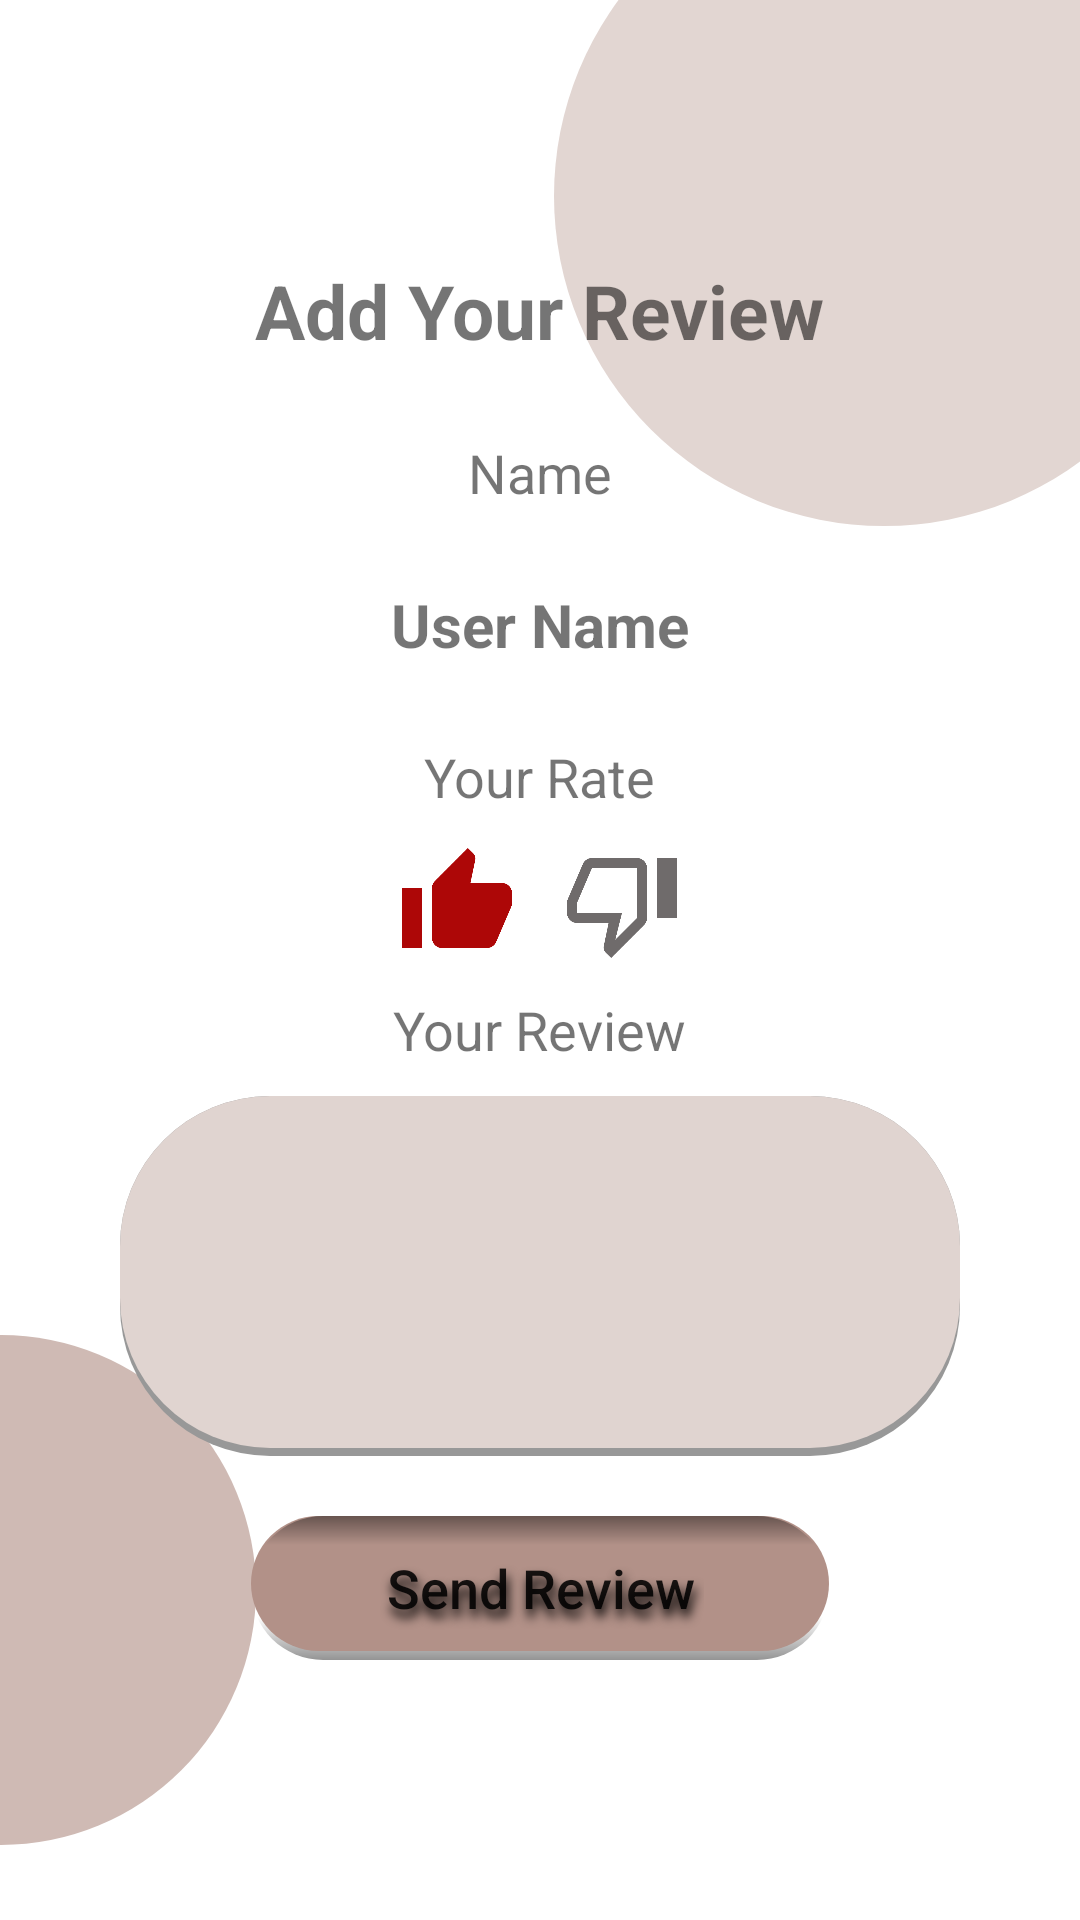

Icons on this 1080x1920 Android screen, each with the point to tap as (x,y):
thumb down: (622,908)
thumb up: (457,898)
